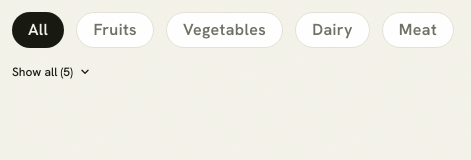
Test case: FilterChips Component › overflow and expand/collapse › should collapse back when "Show less" is clicked
The width and height of the screenshot is (471, 160).
Click the button "Show all (5)" at (52, 72), box [12,64,93,80]
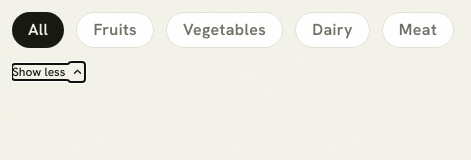
Click the button "Show less" at (49, 72), box [12,64,85,80]
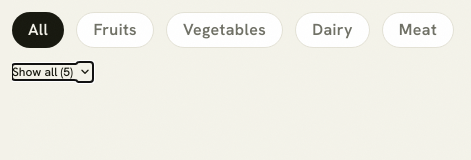
Result: the button "Show all (5)" is shown at [12,64,93,80]
